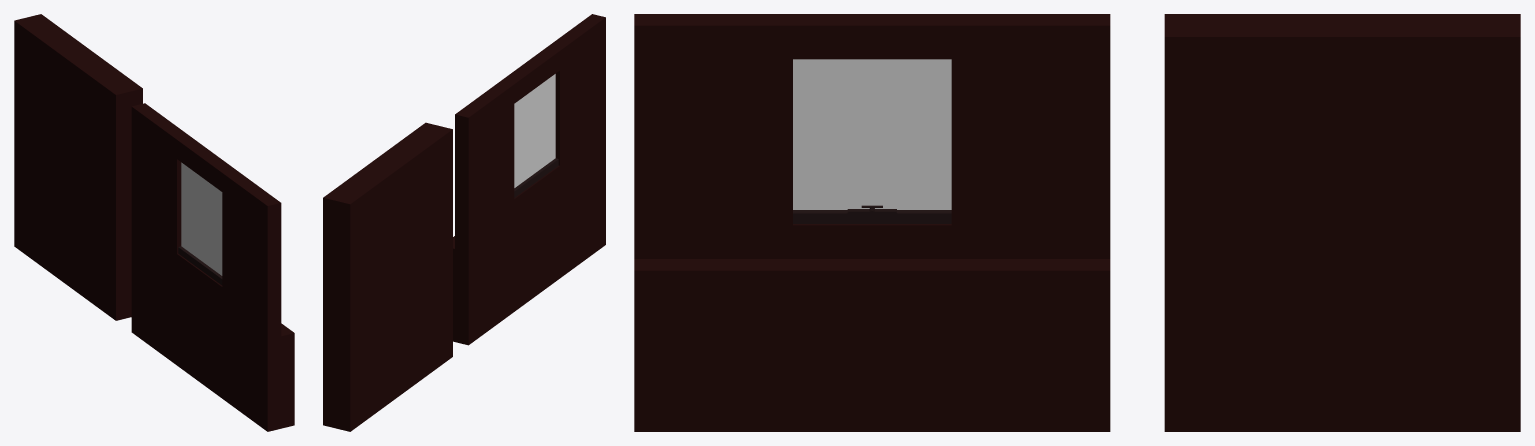
Rendered from windowed_wall.fbx.
3 views of the same model, side by side, from view 1: azimuth 30°, elevation 25°; view 2: azimuth 150°, elevation 25°; view 3: azimuth 270°, elevation 25° (orthographic). The views are drawn at different scales.
Parts seen in each view (by area): view 1: Cube, Cube.003, Cube.002, Cube.001; view 2: Cube, Cube.003, Cube.002, Cube.001; view 3: Cube, Cube.003, Cube.002, Cube.001.
Part boxes in pixels (left/top/right/bottom): Cube: left=131, top=103, right=294, bottom=431; Cube.003: left=14, top=14, right=142, bottom=320; Cube.002: left=181, top=162, right=222, bottom=275; Cube.001: left=178, top=246, right=222, bottom=285; Cube: left=453, top=14, right=605, bottom=345; Cube.003: left=323, top=122, right=452, bottom=431; Cube.002: left=514, top=74, right=555, bottom=187; Cube.001: left=514, top=158, right=558, bottom=197; Cube: left=634, top=14, right=1110, bottom=431; Cube.003: left=1164, top=14, right=1520, bottom=431; Cube.002: left=793, top=59, right=951, bottom=209; Cube.001: left=793, top=205, right=951, bottom=223.
Size of the model in its own units: 98.67 by 788 by 1602.
